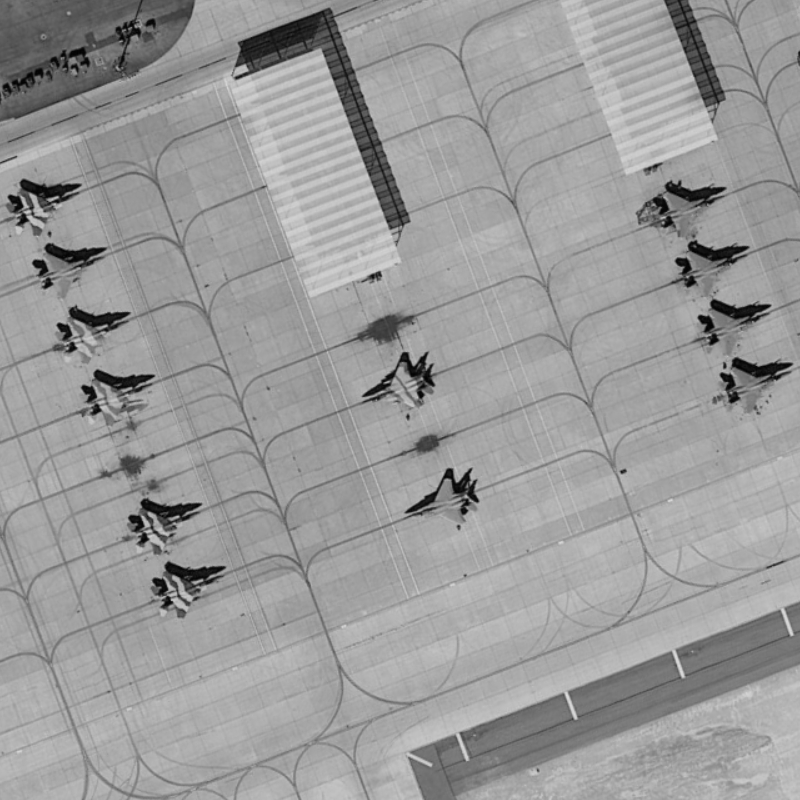A13: (120, 491, 210, 558), (146, 555, 231, 624), (359, 348, 446, 415), (668, 240, 758, 303), (1, 172, 85, 238), (714, 353, 797, 419), (45, 304, 131, 367), (401, 465, 484, 528), (650, 174, 729, 239), (30, 242, 108, 305), (693, 297, 776, 355), (73, 372, 152, 432)
